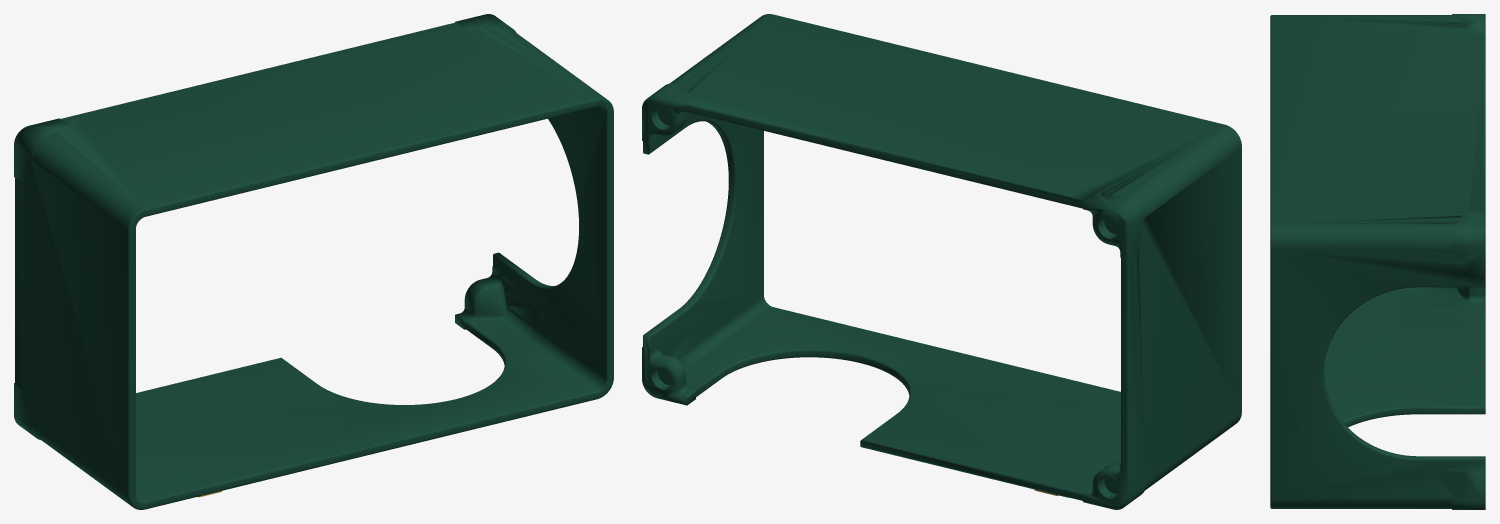
3 views of the same model, side by side, from view 1: azimuth 30°, elevation 25°; view 2: azimuth 150°, elevation 25°; view 3: azimuth 270°, elevation 25° (orthographic). The views are drawn at different scales.
Visible parts, largest first — view 1: A01_PineGreen; view 2: A01_PineGreen; view 3: A01_PineGreen.
Boxes of the visible parts, x1,y1,x2,y2 form: A01_PineGreen: (14, 14, 613, 509); A01_PineGreen: (642, 14, 1241, 509); A01_PineGreen: (1270, 14, 1485, 509).
Bounding box in the file's own units: 196 × 119 × 80.
